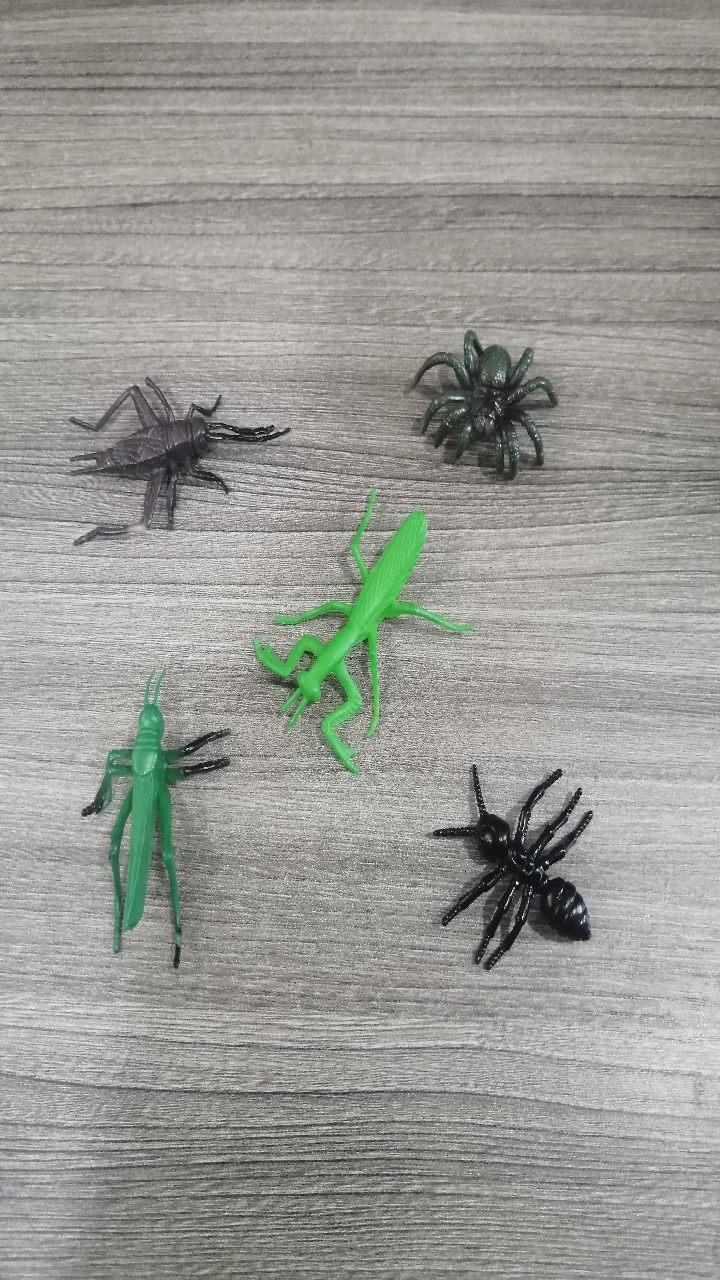intruso: (220, 489, 469, 779), (60, 654, 248, 1006), (414, 723, 621, 995), (44, 332, 294, 554), (386, 305, 594, 529)
